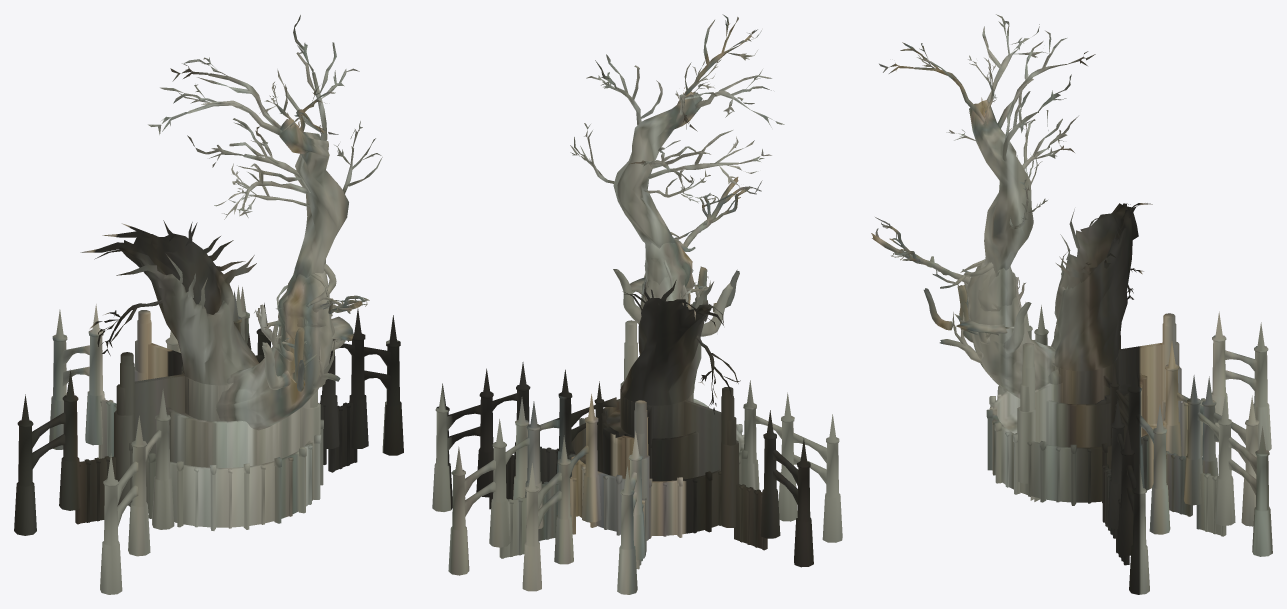
Rendered from tile_2_7.glb.
3 views of the same model, side by side, from view 1: azimuth 30°, elevation 25°; view 2: azimuth 150°, elevation 25°; view 3: azimuth 270°, elevation 25° (orthographic). The views are drawn at different scales.
Parts seen in each view (by area): view 1: mesh[0].073; view 2: mesh[0].073; view 3: mesh[0].073.
Part boxes in pixels (x1,y1,x2,y2): mesh[0].073: (14,15,403,594); mesh[0].073: (432,14,842,594); mesh[0].073: (871,14,1272,594).
Bounding box in the file's own units: 1002 × 1202 × 940.
1 material, 1 textured.
